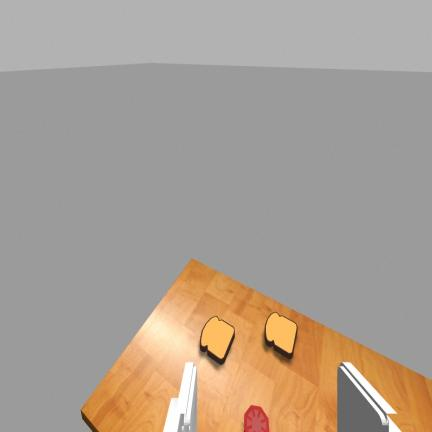sliced_bread: (200, 316, 235, 364), (265, 312, 297, 358)
sliced_tomato: (244, 405, 269, 431)
